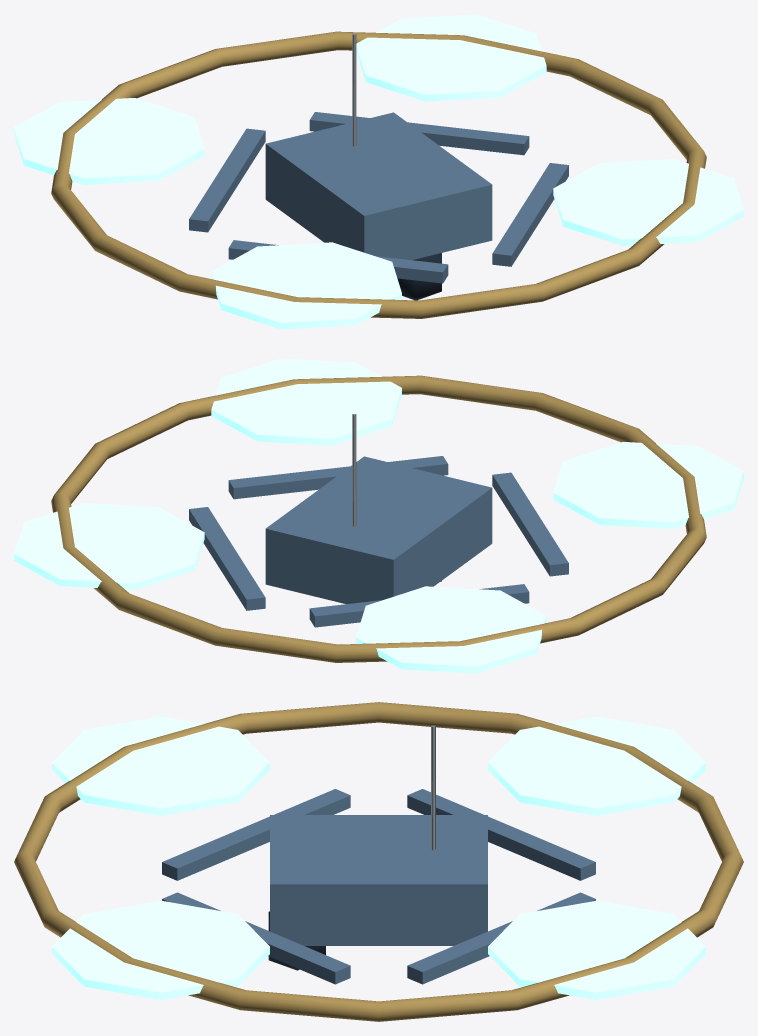
Rendered from veh_air_drone_recon_a10.glb.
3 views of the same model, one above another, from view 1: azimuth 30°, elevation 25°; view 2: azimuth 150°, elevation 25°; view 3: azimuth 270°, elevation 25° (orthographic). The views are drawn at different scales.
Parts seen in each view (by area): view 1: body, rotor_2, rotor_1, rotor_3, rotor_0; view 2: body, rotor_0, rotor_3, rotor_1, rotor_2; view 3: body, rotor_1, rotor_3, rotor_0, rotor_2.
Part boxes in pixels (x1,y1,x2,y2): body: [51, 31, 706, 318]; rotor_2: [356, 14, 546, 101]; rotor_1: [211, 242, 401, 329]; rotor_3: [14, 98, 204, 184]; rotor_0: [553, 159, 743, 245]; body: [51, 375, 706, 662]; rotor_0: [211, 358, 401, 445]; rotor_3: [356, 586, 546, 673]; rotor_1: [553, 442, 743, 528]; rotor_2: [14, 503, 204, 589]; body: [14, 702, 743, 1021]; rotor_1: [52, 716, 269, 815]; rotor_3: [488, 716, 705, 815]; rotor_0: [52, 900, 269, 999]; rotor_2: [488, 900, 705, 999].
Size of what is drawn, in the model's own units: 2.68 by 0.99 by 2.68.
